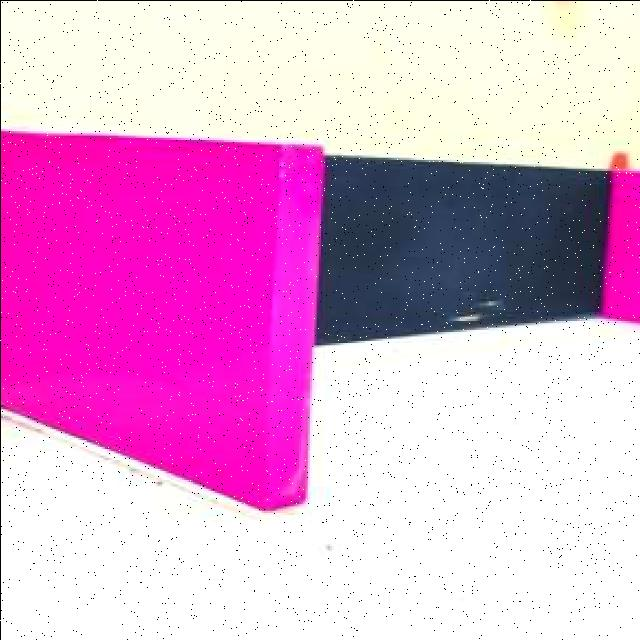xparking: (0, 148, 307, 437), (609, 165, 640, 314)
